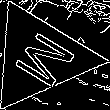M_SE: (2, 24, 77, 91)
